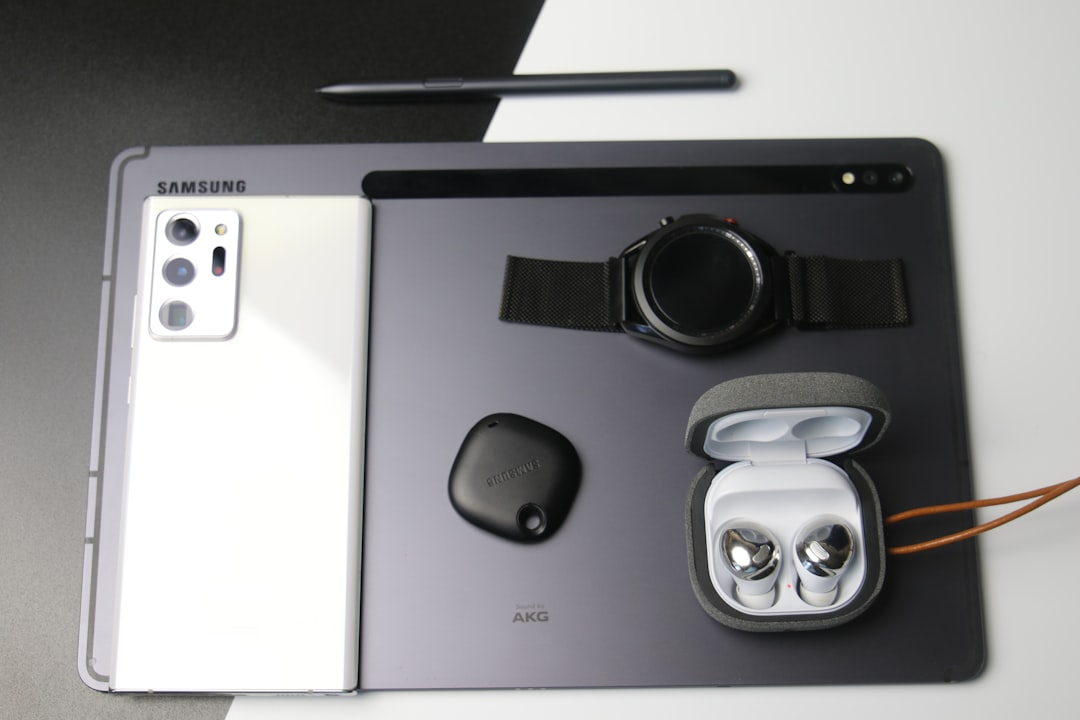phone: (104, 192, 376, 698)
